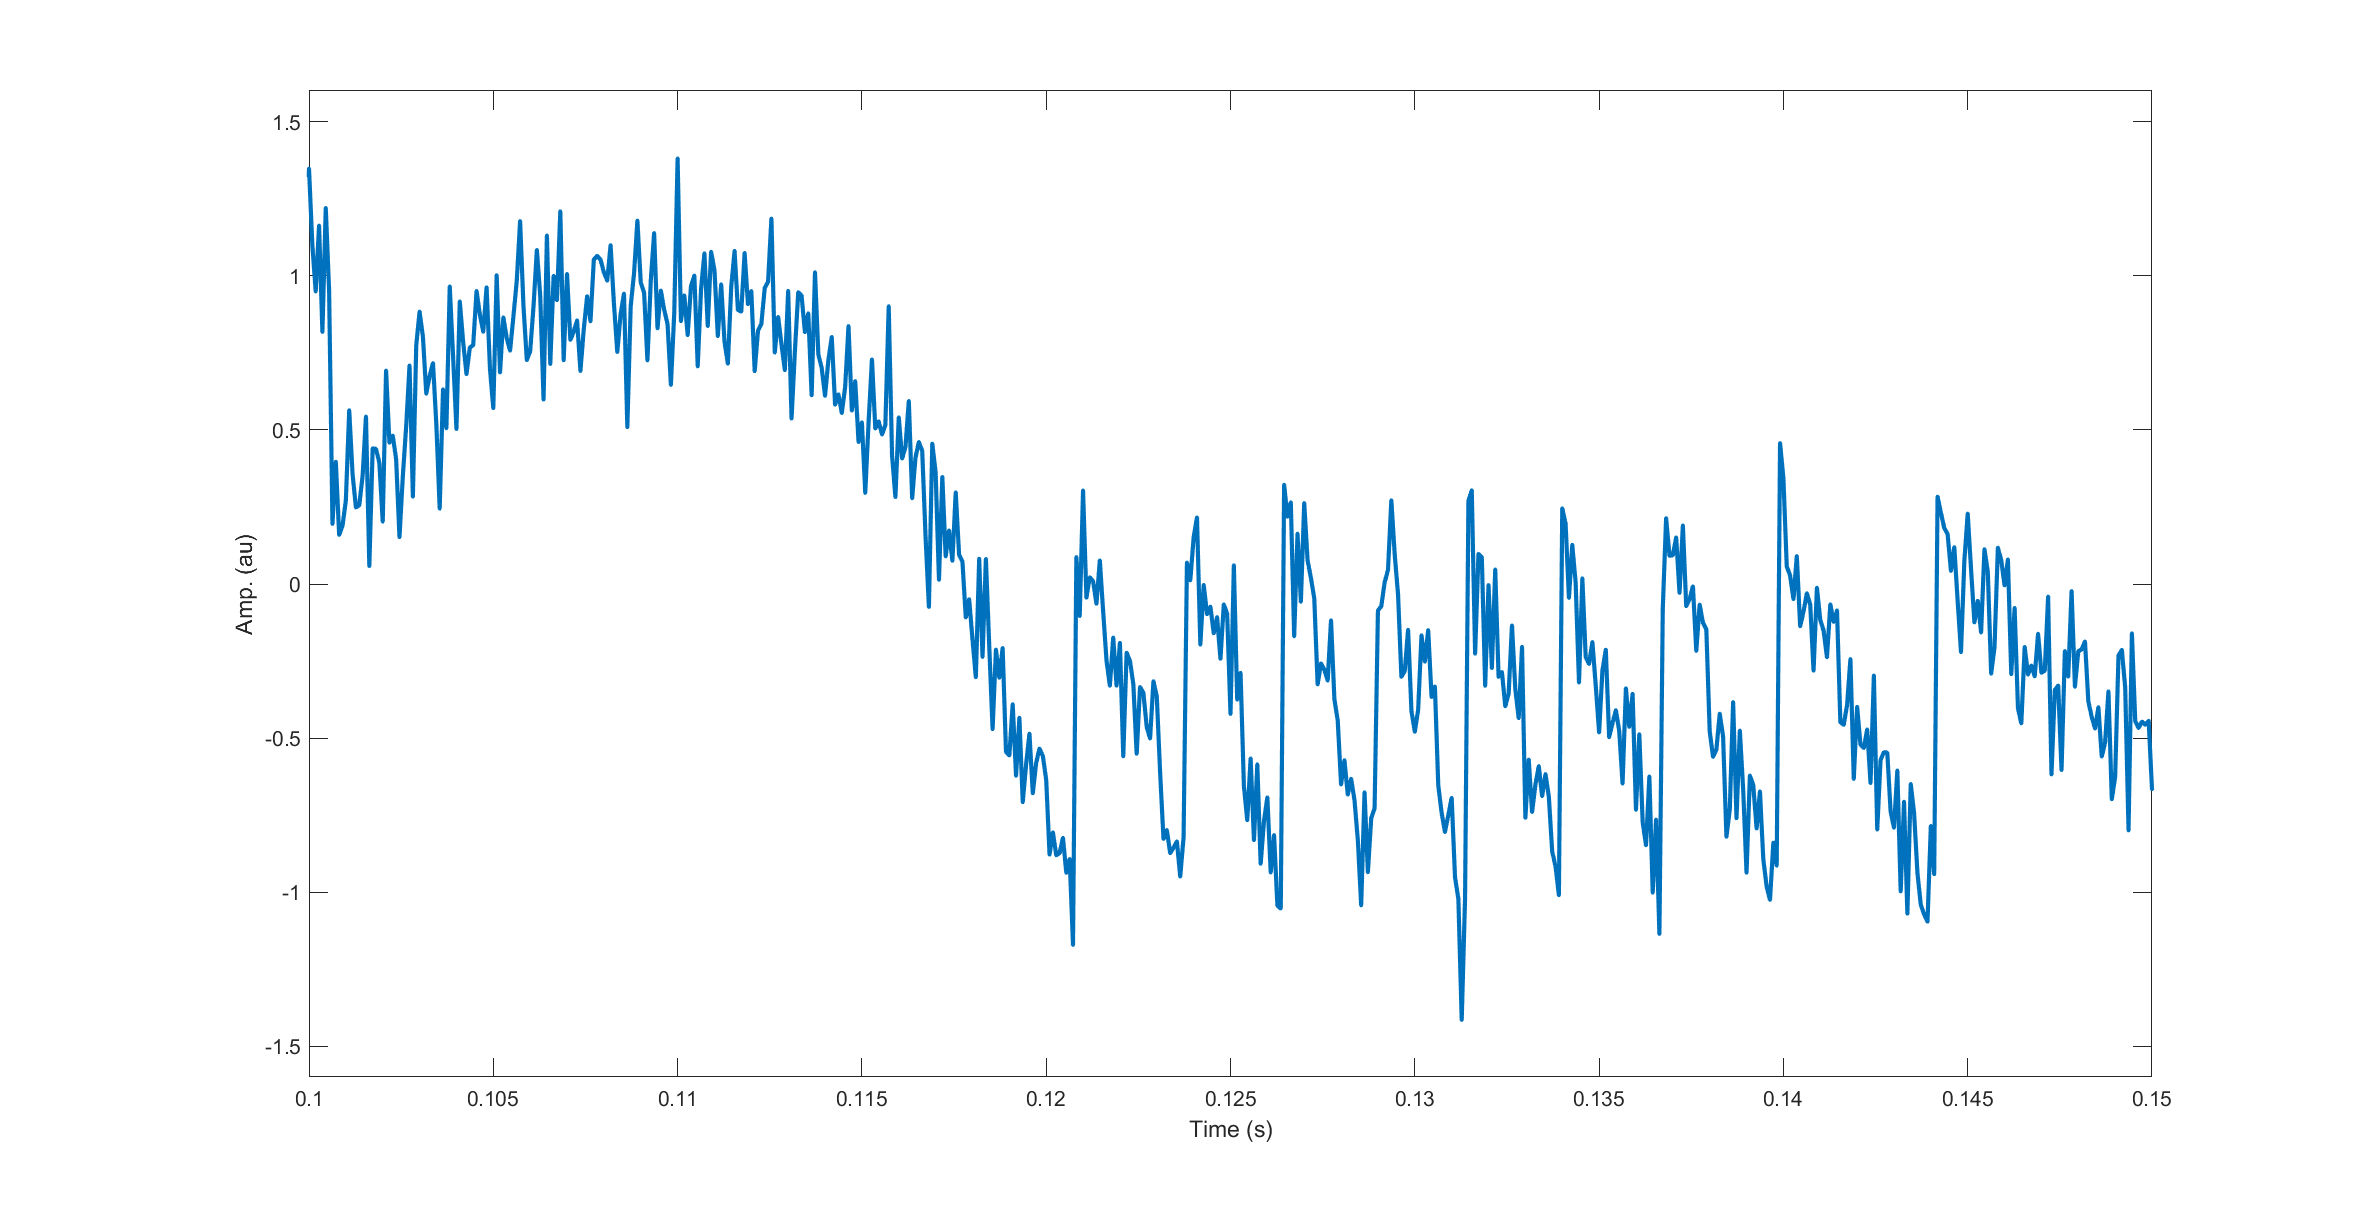negative_fringe: (1924, 474, 2108, 904), (1762, 429, 1920, 897), (1452, 485, 1545, 1019), (1645, 515, 1758, 937), (1062, 468, 1159, 937), (1363, 489, 1455, 895), (1272, 468, 1355, 900), (1174, 486, 1261, 900), (1555, 489, 1636, 889)
